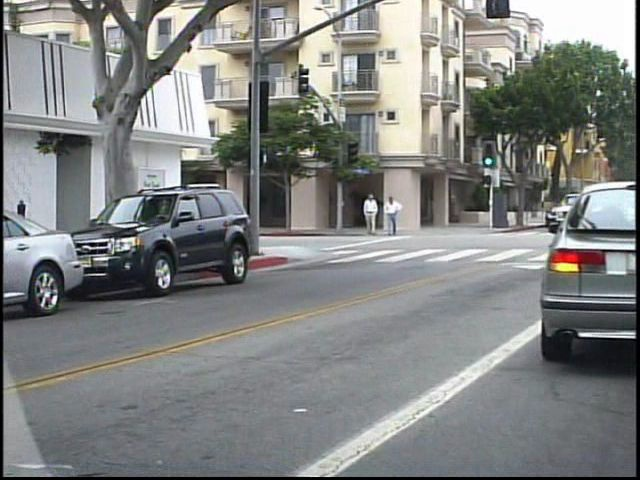person: (358, 191, 377, 243), (379, 193, 399, 239)
